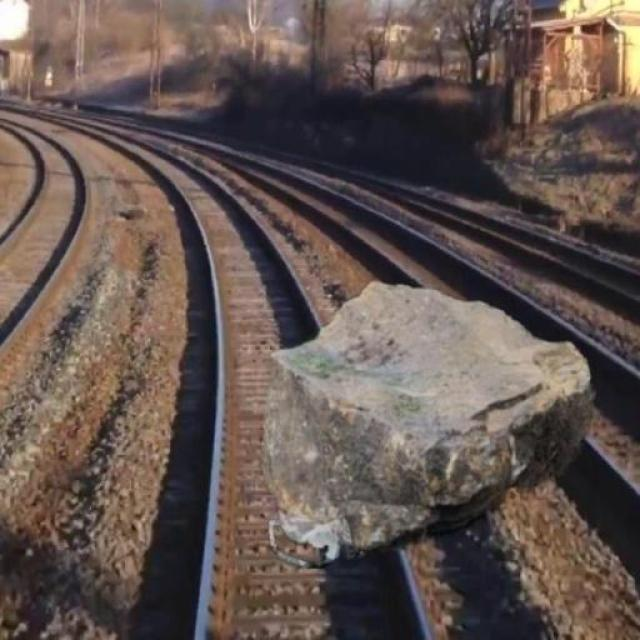Stone: (255, 273, 600, 570)
